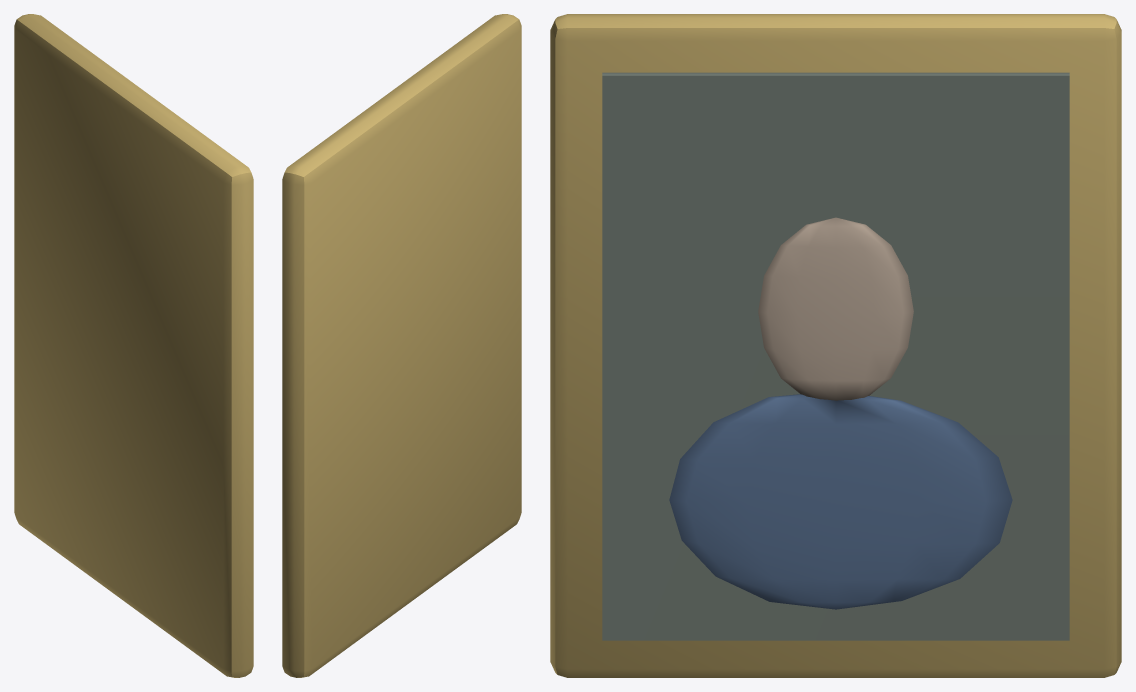
Rendered from portrait.glb.
The picture shows the model from 3 angles, left to right: view 1: azimuth 30°, elevation 25°; view 2: azimuth 150°, elevation 25°; view 3: azimuth 270°, elevation 25°; orthographic projection. The views are drawn at different scales.
Visible parts, largest first — view 1: boat_gilt; view 2: boat_gilt; view 3: boat_canvasp, boat_gilt, boat_book2, boat_face.
Part boxes in pixels (x1,y1,x2,y2): boat_gilt: [14, 14, 253, 677]; boat_gilt: [282, 14, 521, 677]; boat_canvasp: [602, 72, 1069, 640]; boat_gilt: [550, 14, 1121, 677]; boat_book2: [669, 394, 1012, 609]; boat_face: [758, 217, 913, 400].
Size of the model in its own units: 0.068 by 0.84 by 0.66.
